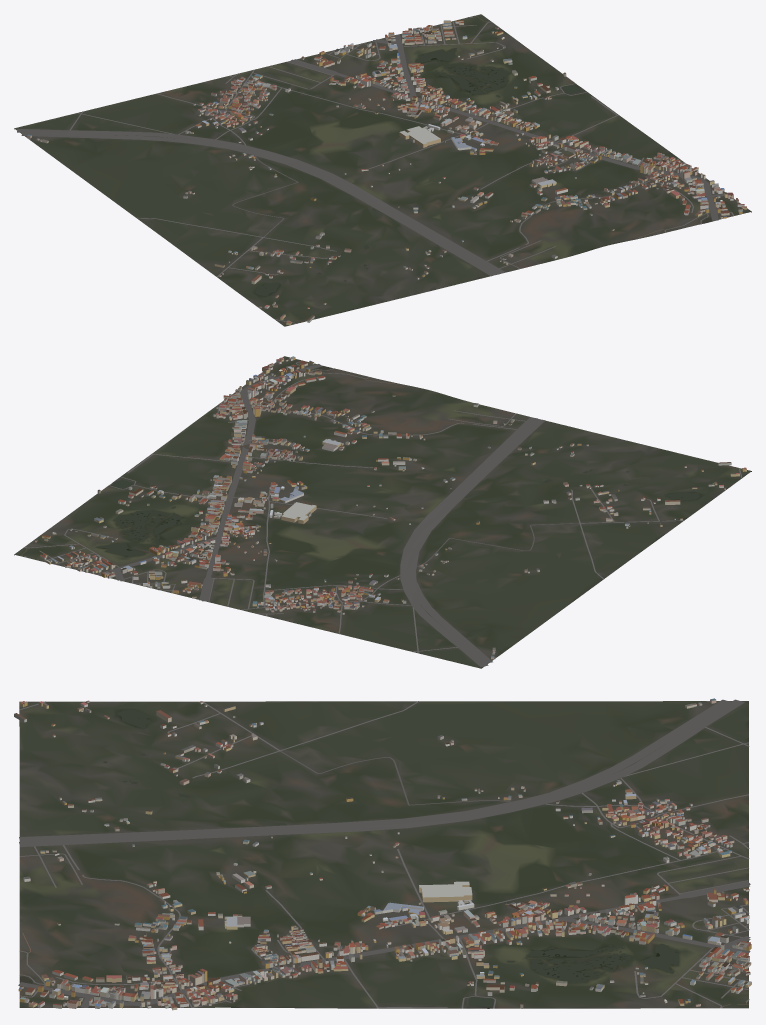
3 renders of one model, top to bottom at view 1: azimuth 30°, elevation 25°; view 2: azimuth 150°, elevation 25°; view 3: azimuth 270°, elevation 25°, orthographic. The views are drawn at different scales.
Parts seen in each view (by area): view 1: ground, buildings, roads, water; view 2: ground, buildings, roads, water; view 3: ground, buildings, roads, water.
Part boxes in pixels (x1=…): ground: x1=14, y1=14, x2=751, y2=326; buildings: x1=27, y1=20, x2=746, y2=325; roads: x1=17, y1=16, x2=734, y2=323; water: x1=255, y1=48, x2=711, y2=295; ground: x1=14, y1=356, x2=751, y2=668; buildings: x1=35, y1=356, x2=746, y2=659; roads: x1=20, y1=360, x2=742, y2=666; water: x1=95, y1=366, x2=699, y2=557; ground: x1=19, y1=701, x2=748, y2=1008; buildings: x1=14, y1=698, x2=751, y2=1010; roads: x1=18, y1=699, x2=750, y2=1008; water: x1=20, y1=710, x2=679, y2=1006.
Size of the model in its own units: 1416 by 27.94 by 1418.
